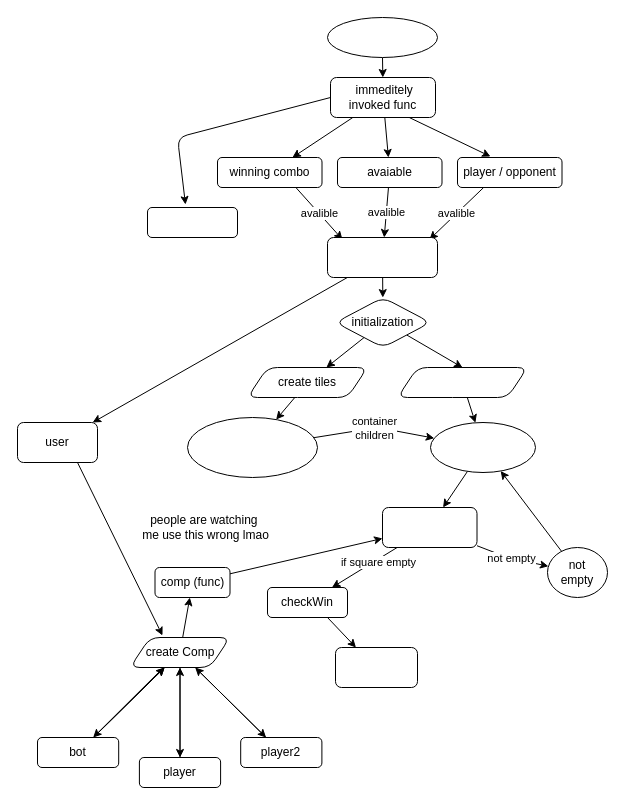
Some shapes in this 625 by 805 pixel diagram are drawn without their labels. Here are the shapes that lost their labels. From the top down, the box of each, then its label:
(326, 16, 438, 58): start
(146, 206, 238, 238): container
(326, 236, 438, 278): game object
(396, 366, 528, 398): addEventListners
(186, 416, 318, 478): create node append reference in length
(430, 422, 536, 472): container children on click
(382, 506, 477, 548): updateSquare
